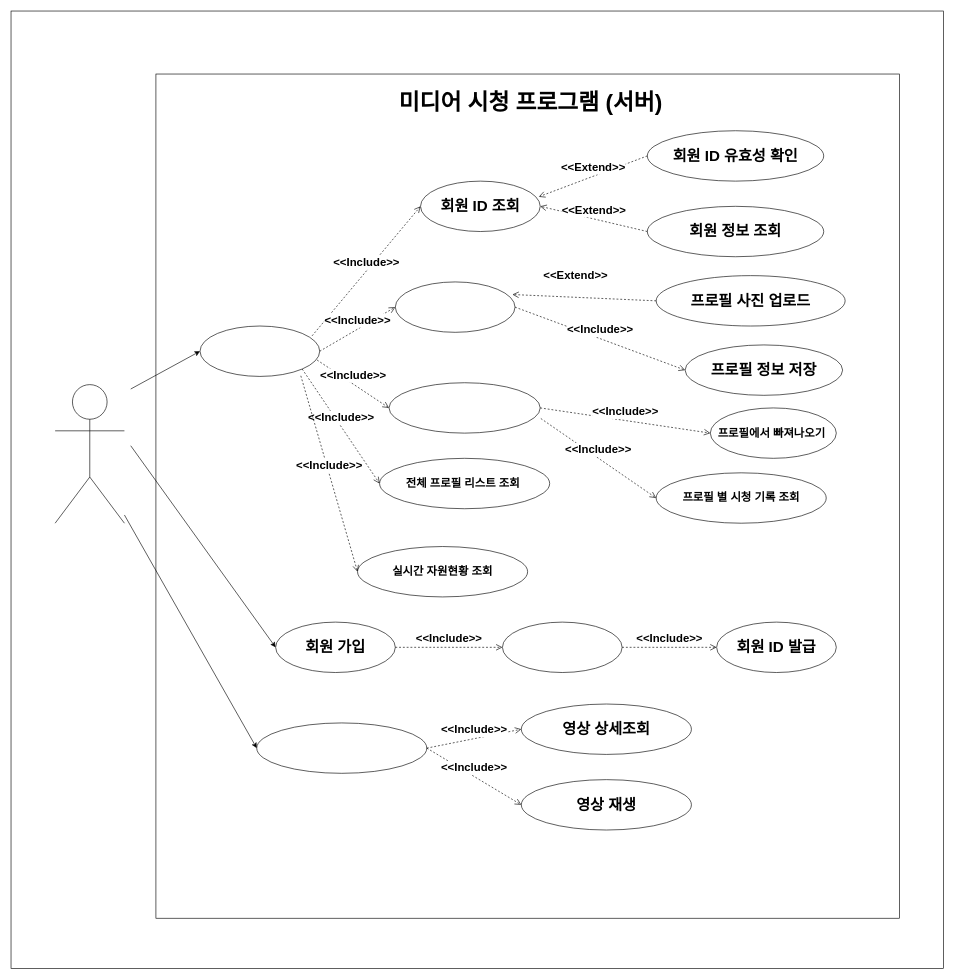
Image size: 954x980. Some labels were removed from this diagram. The shapes that lost their labels are listed below. From the top down, each one's centre as x and y in pixels, then its label:
At pixel 455 306: "프로필 생성".
At pixel 259 350: "로그인".
At pixel 464 407: "특정 프로필 진입".
At pixel 89 453: "사용자".
At pixel 562 647: "회원 정보 저장".
At pixel 341 747: "영상 리스트 조회".
